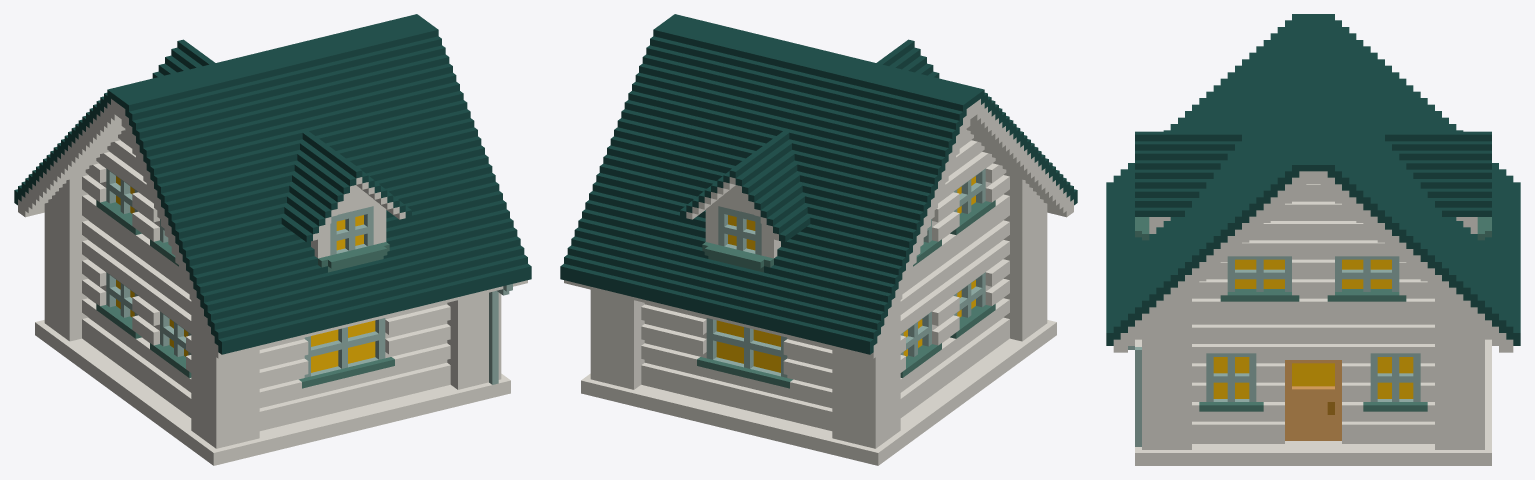
The model's file is house.fbx.
3 views of the same model, side by side, from view 1: azimuth 30°, elevation 25°; view 2: azimuth 150°, elevation 25°; view 3: azimuth 270°, elevation 25° (orthographic).
Parts seen in each view (by area): view 1: house.001; view 2: house.001; view 3: house.001.
Part boxes in pixels (x1,y1,x2,y2): house.001: (14, 14, 531, 465); house.001: (560, 14, 1077, 465); house.001: (1106, 14, 1520, 465).
Bounding box in the file's own units: 50 × 47 × 58.
1 material, 1 textured.
